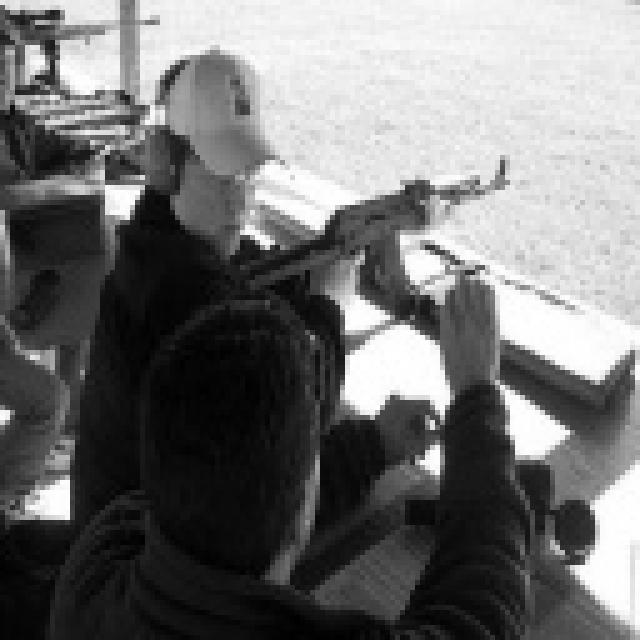Rifle: (235, 142, 524, 334), (0, 0, 170, 82)
